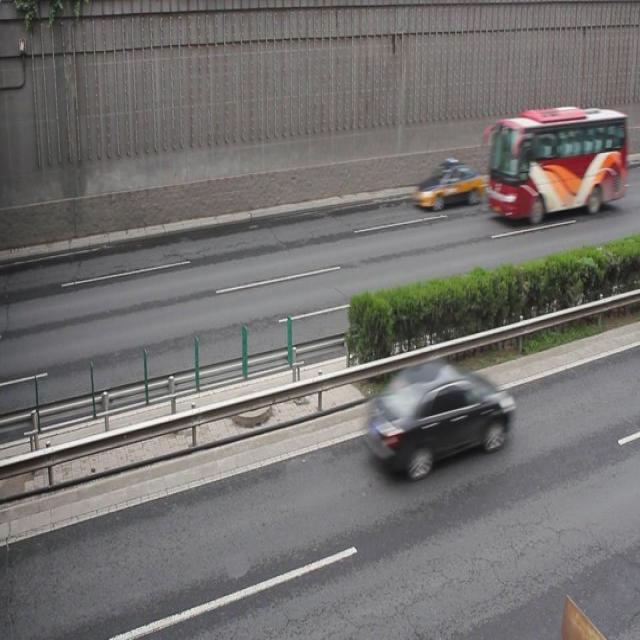car: (369, 358, 513, 472), (414, 159, 482, 210)
van: (486, 107, 623, 220)
